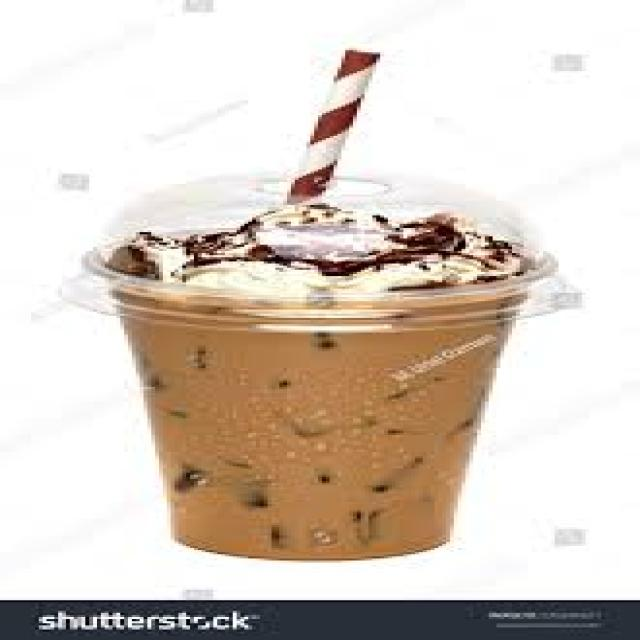bottle: (126, 310, 510, 558)
